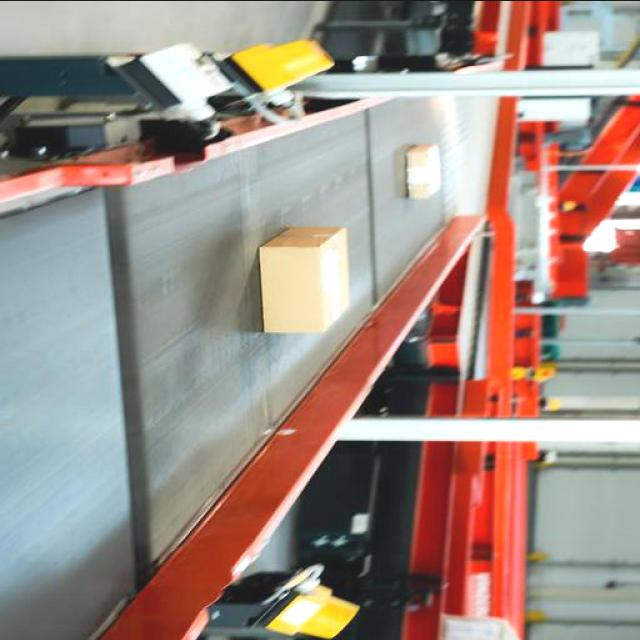conveyor: (0, 70, 489, 640)
